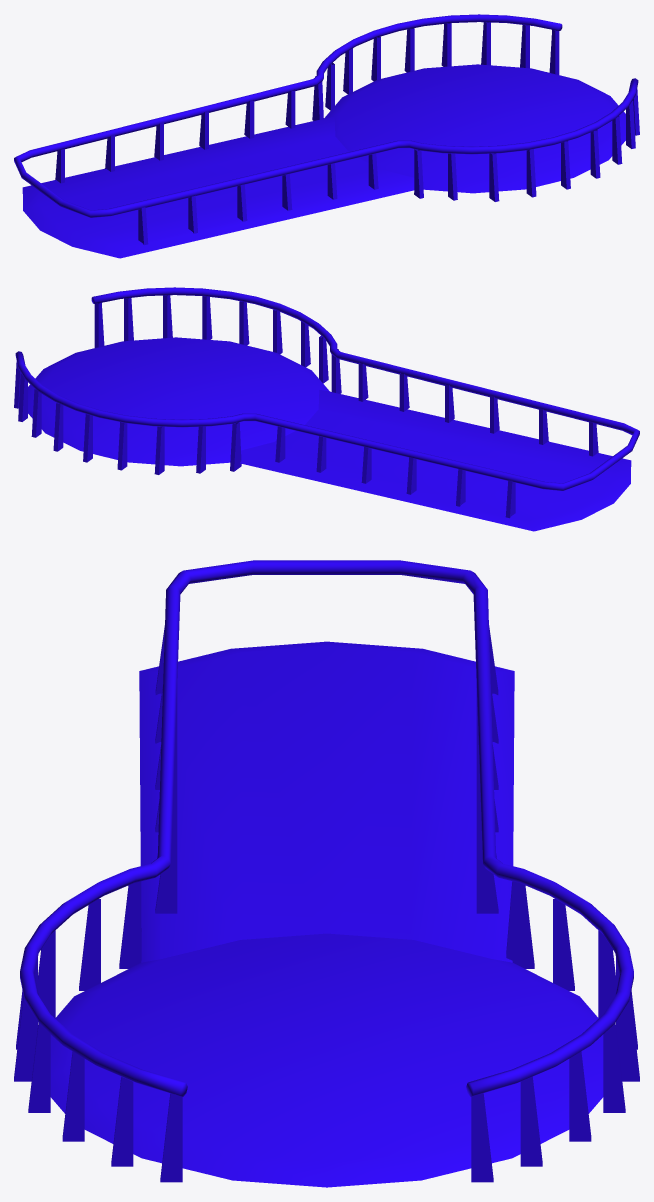
File: CapBrige.FBX
The picture shows the model from 3 angles, top to bottom: view 1: azimuth 30°, elevation 25°; view 2: azimuth 150°, elevation 25°; view 3: azimuth 270°, elevation 25°; orthographic projection. The views are drawn at different scales.
Visible parts, largest first — view 1: Cylinder001; view 2: Cylinder001; view 3: Cylinder001.
Part boxes in pixels (left/top/right/bottom): Cylinder001: left=14, top=14, right=639, bottom=258; Cylinder001: left=14, top=287, right=639, bottom=531; Cylinder001: left=14, top=560, right=639, bottom=1187.
Size of the model in its own units: 1317 by 114 by 649.
